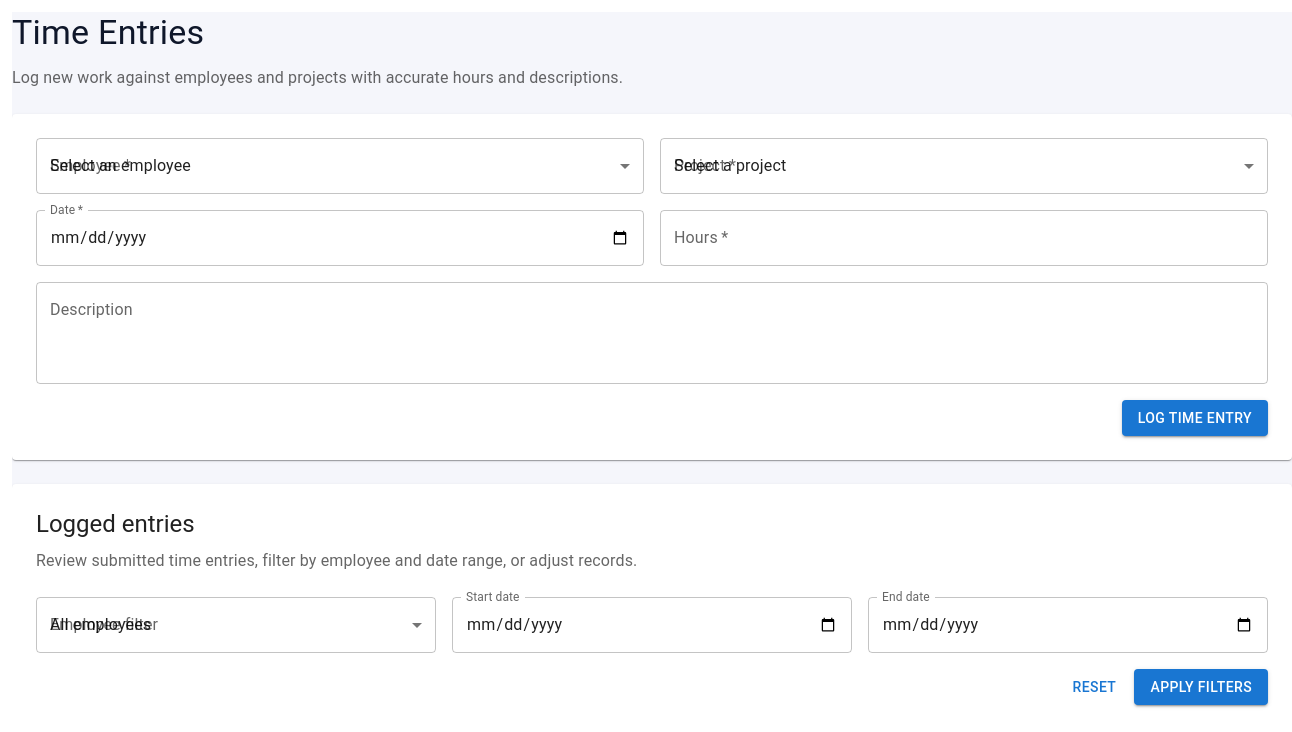
Test: TimeEntriesPage › surfaces backend validation errors to the user
Select "Avery Stone" in the dropdown named "employeeId" at (340, 166), box x1=36 y1=138 x2=644 y2=194
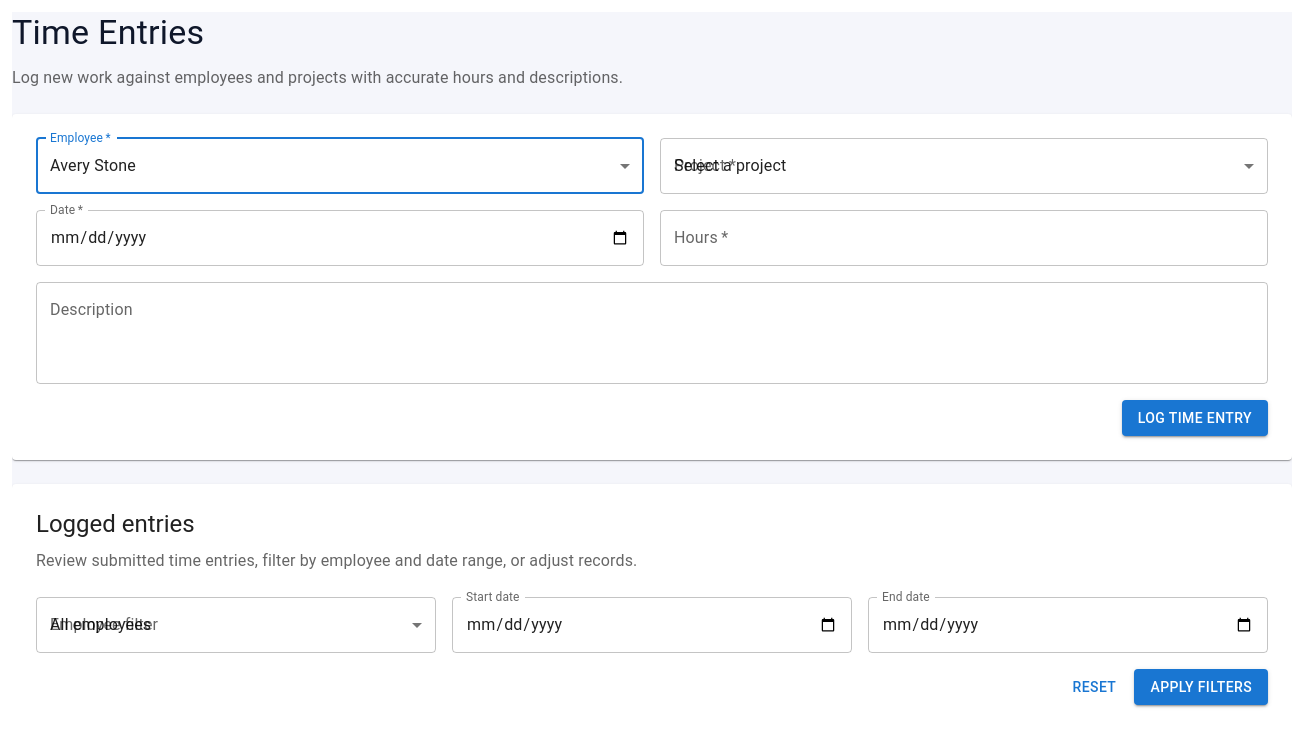
Select "Atlas Payroll" in the dropdown named "projectId" at (964, 166), box x1=660 y1=138 x2=1268 y2=194
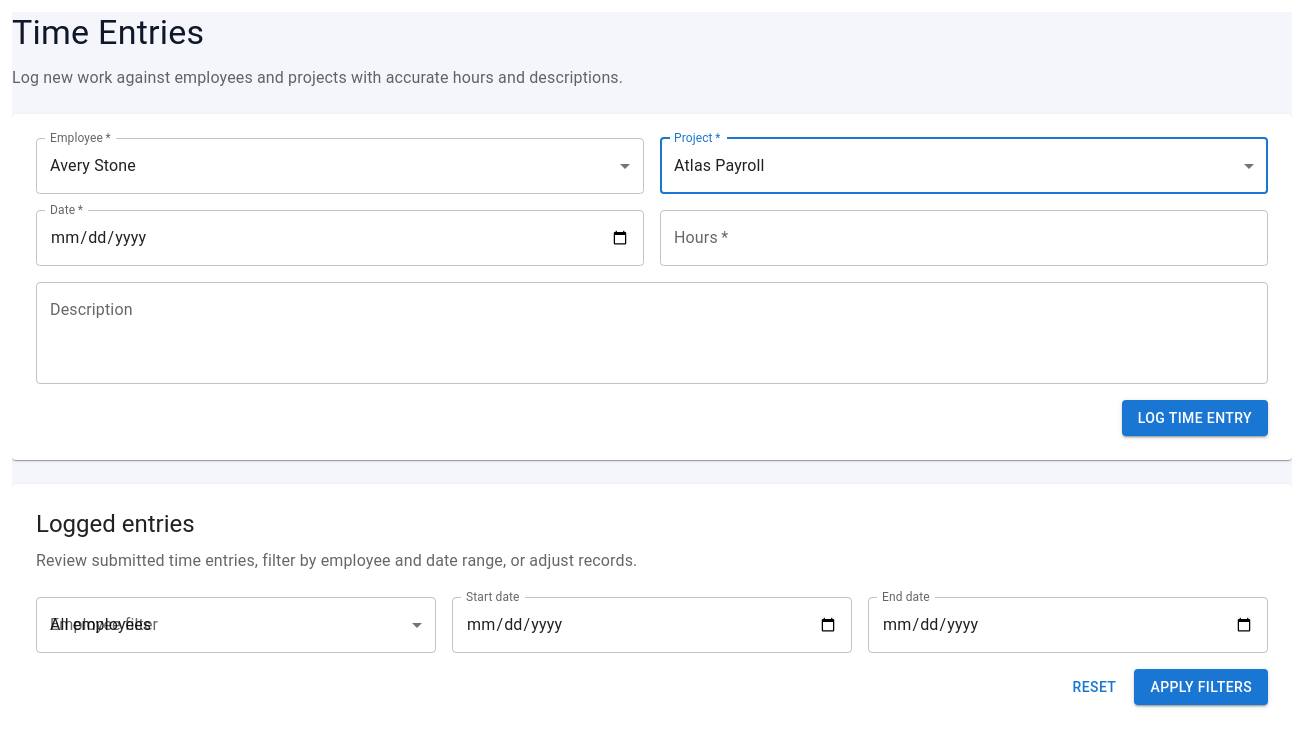
Type "2024-11-05" into the date field named "date".
click(340, 238); type("2024-11-05")  # box x1=36 y1=210 x2=644 y2=266
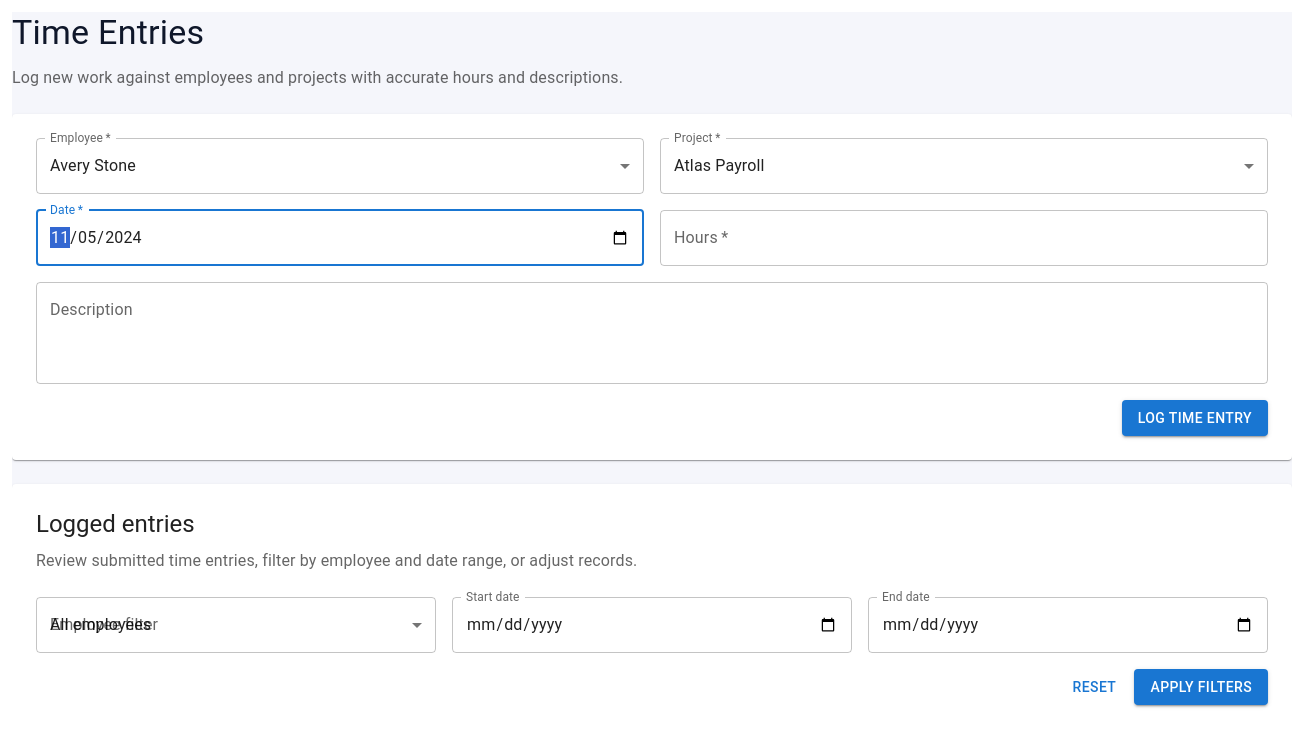
Type "5" into the number field named "hours".
click(964, 238); type("5")  # box x1=660 y1=210 x2=1268 y2=266
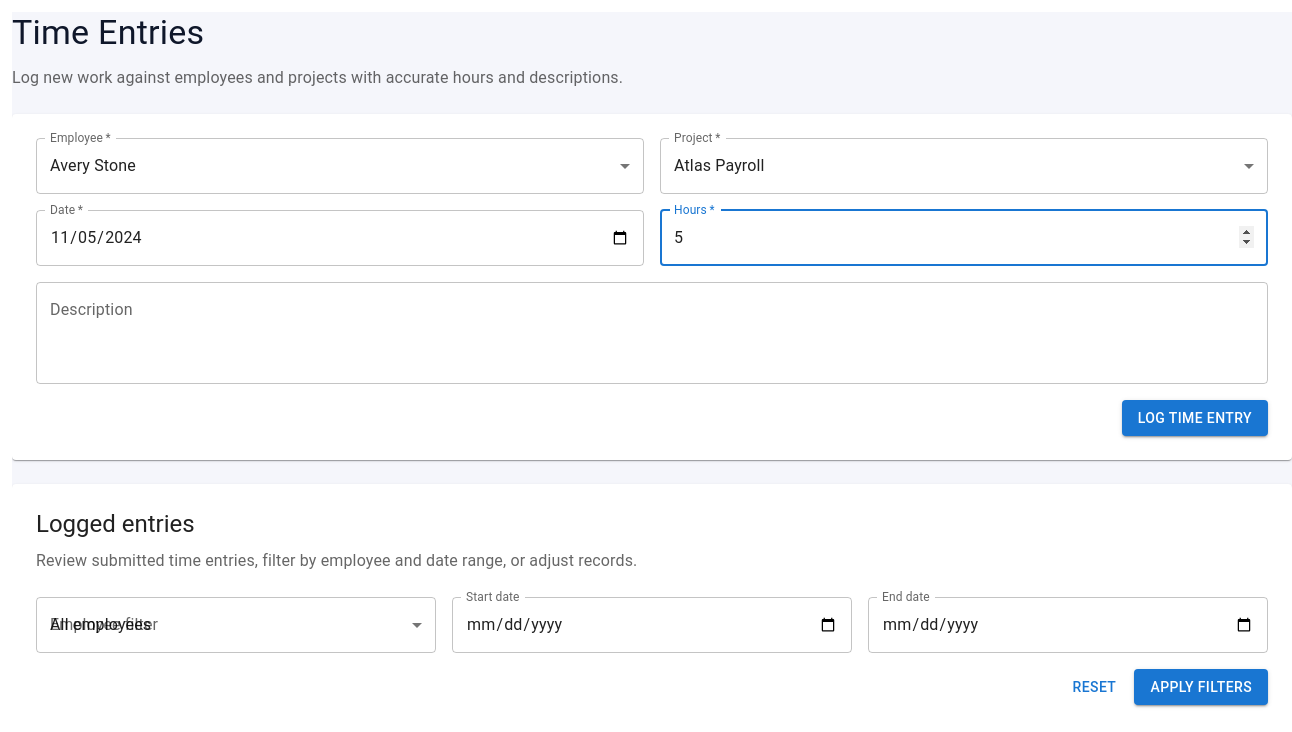
Click the button "Log time entry".
click(1195, 418)  # box x1=1122 y1=400 x2=1268 y2=436
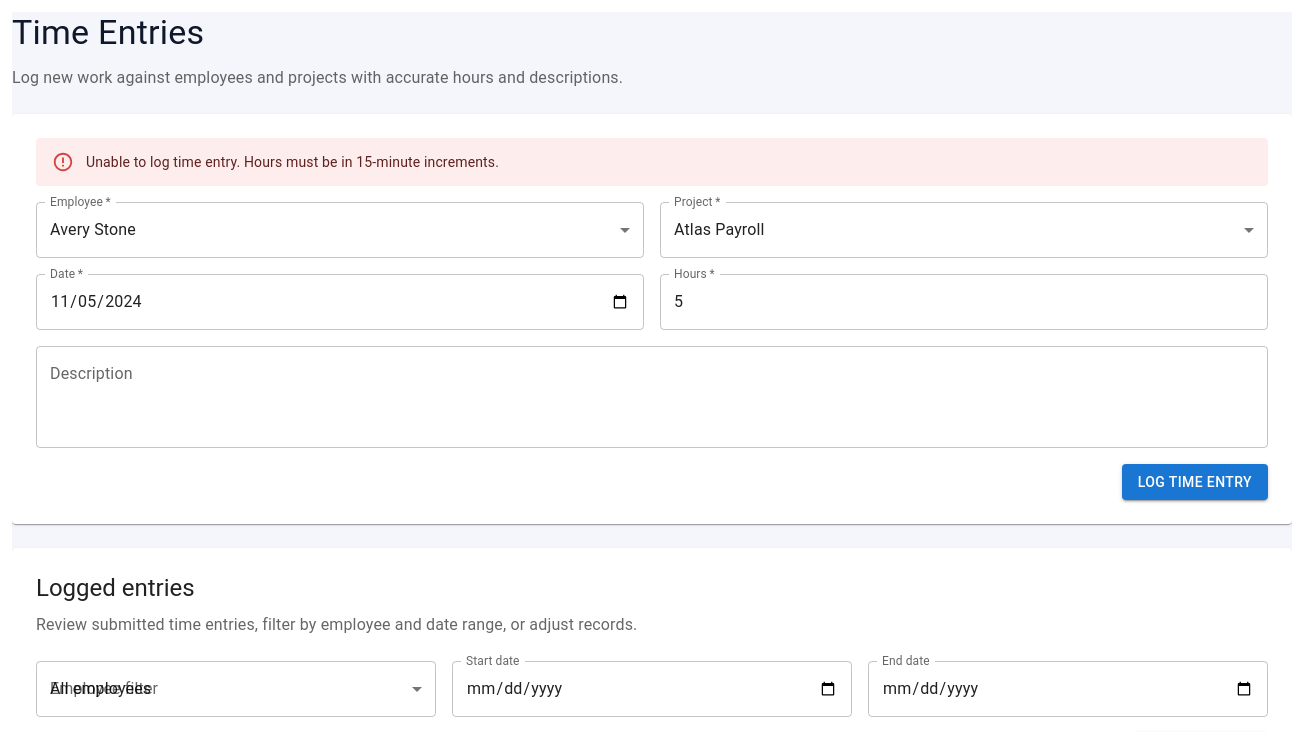
Check: the text "Hours must be in 15-minute increments" is shown, box x1=86 y1=154 x2=499 y2=170
